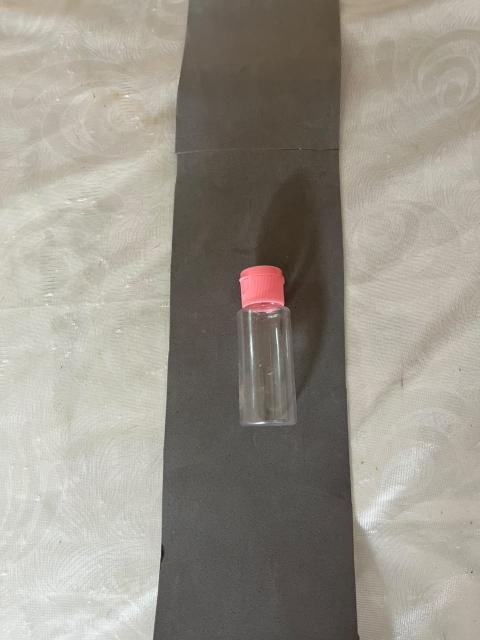PET: (207, 242, 320, 457)
